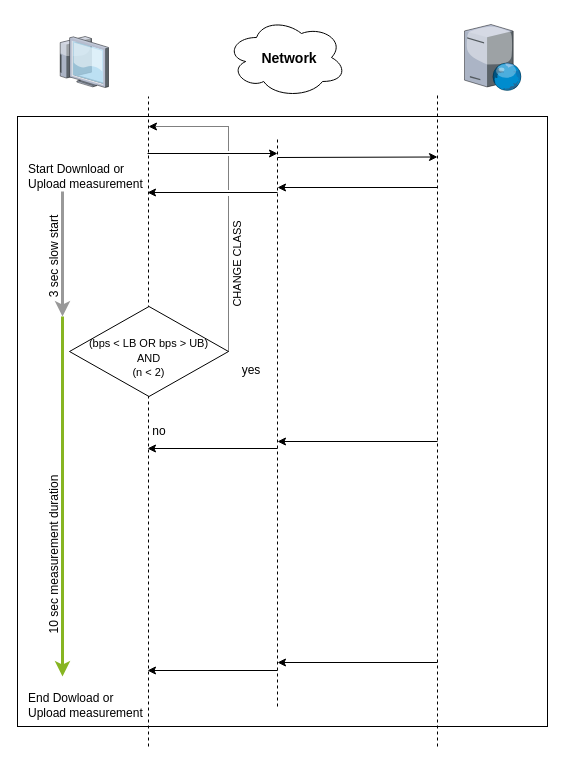
This 567x765 diagram has some shape labels left out. The shapes that lost their labels are listed below. From the top down, each one's centre as x and y in pixels, then its label:
the point at 82,61: Measurement Agent
the point at 492,57: Data Reference Peer
